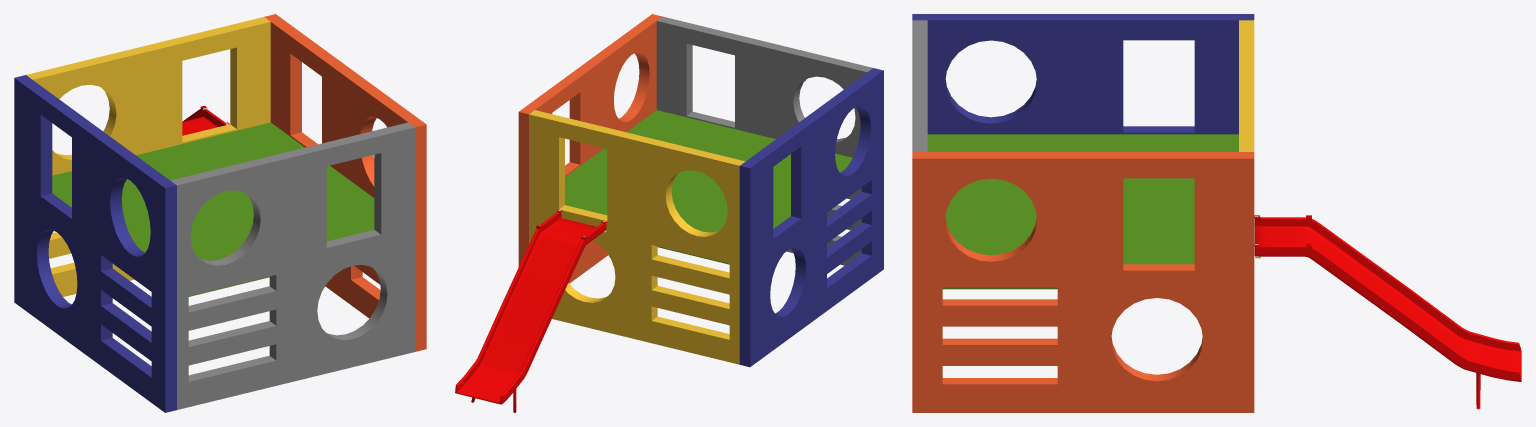
File: squareplayground.fbx
The picture shows the model from 3 angles, left to right: view 1: azimuth 30°, elevation 25°; view 2: azimuth 150°, elevation 25°; view 3: azimuth 270°, elevation 25°; orthographic projection. The views are drawn at different scales.
Visible parts, largest first — view 1: Group_003, Group_002, Group_001, Group_005, Group_004, Cylinder02#1_001; view 2: Group_001, Group_002, Group_003, Cylinder02#1_001, Group_005, Group_004; view 3: Group_005, Group_002, Group_004, Cylinder02#1_001, Group_003, Group_001.
Part boxes in pixels (left/top/right/bottom): Group_003: left=170, top=122, right=414, bottom=409; Group_002: left=14, top=75, right=176, bottom=412; Group_001: left=26, top=17, right=270, bottom=296; Group_005: left=264, top=14, right=426, bottom=351; Group_004: left=52, top=122, right=374, bottom=296; Cylinder02#1_001: left=182, top=105, right=229, bottom=135; Group_001: left=529, top=110, right=745, bottom=364; Group_002: left=739, top=68, right=883, bottom=367; Group_003: left=656, top=16, right=872, bottom=265; Cylinder02#1_001: left=455, top=209, right=607, bottom=412; Group_005: left=518, top=14, right=662, bottom=283; Group_004: left=565, top=110, right=852, bottom=264; Group_005: left=912, top=152, right=1254, bottom=412; Group_002: left=912, top=14, right=1254, bottom=134; Group_004: left=927, top=134, right=1238, bottom=289; Cylinder02#1_001: left=1254, top=215, right=1521, bottom=409; Group_003: left=912, top=20, right=927, bottom=151; Group_001: left=1239, top=20, right=1254, bottom=151.
Bounding box in the file's own units: 52.76 × 47.06 × 94.01.
